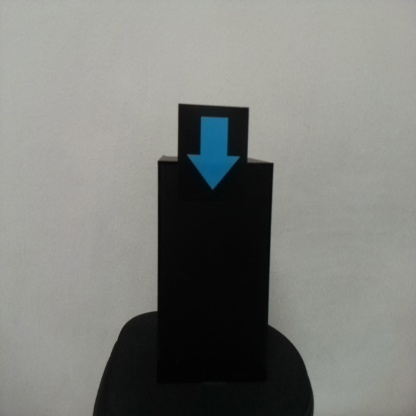id_2: (179, 106, 248, 202)
